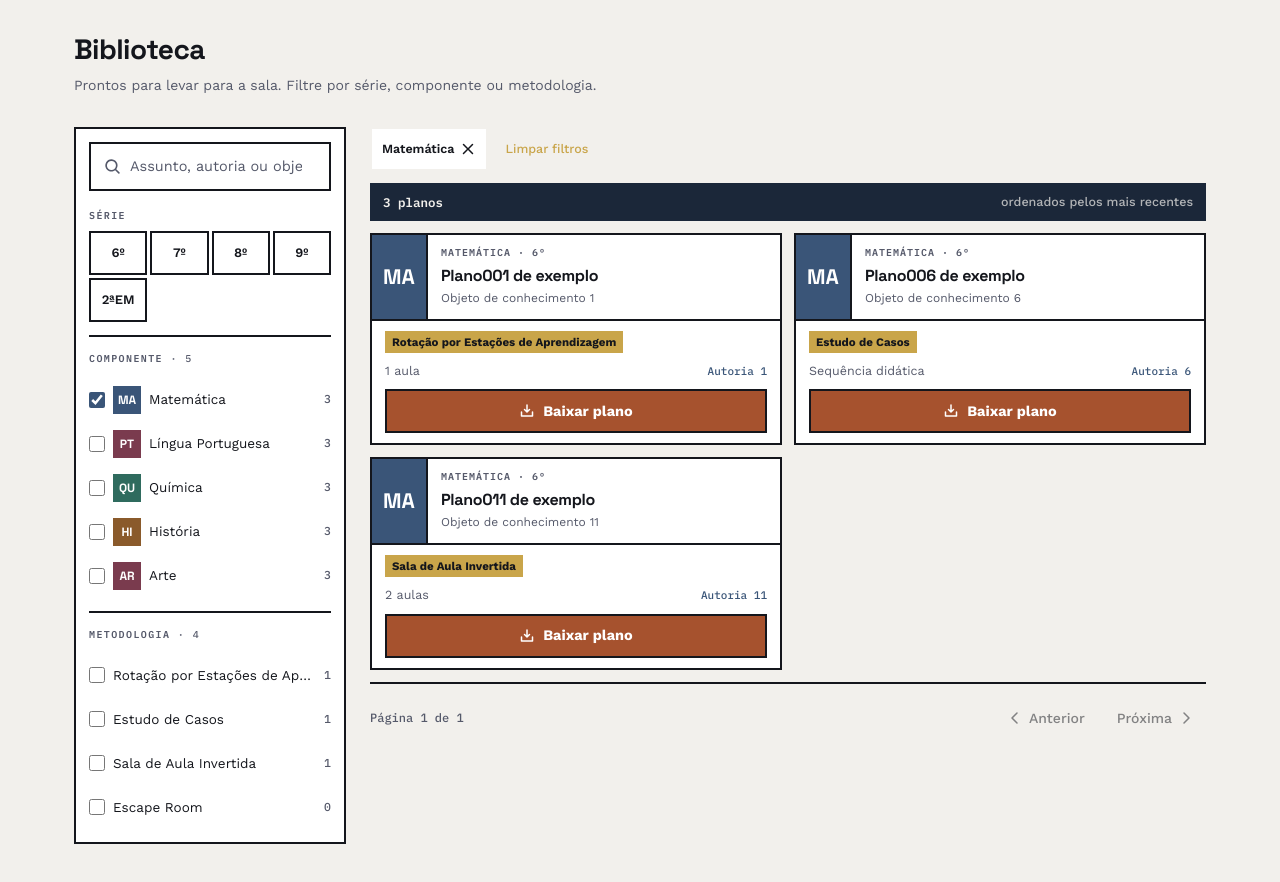
Test: PaginaBiblioteca › tocar no chip já ativo desliga o recorte
Expected: the text "3 planos" is shown, [383, 193, 443, 211]
Click the checkbox labelled "MA Matemática 3" at (97, 400), box [89, 392, 105, 408]
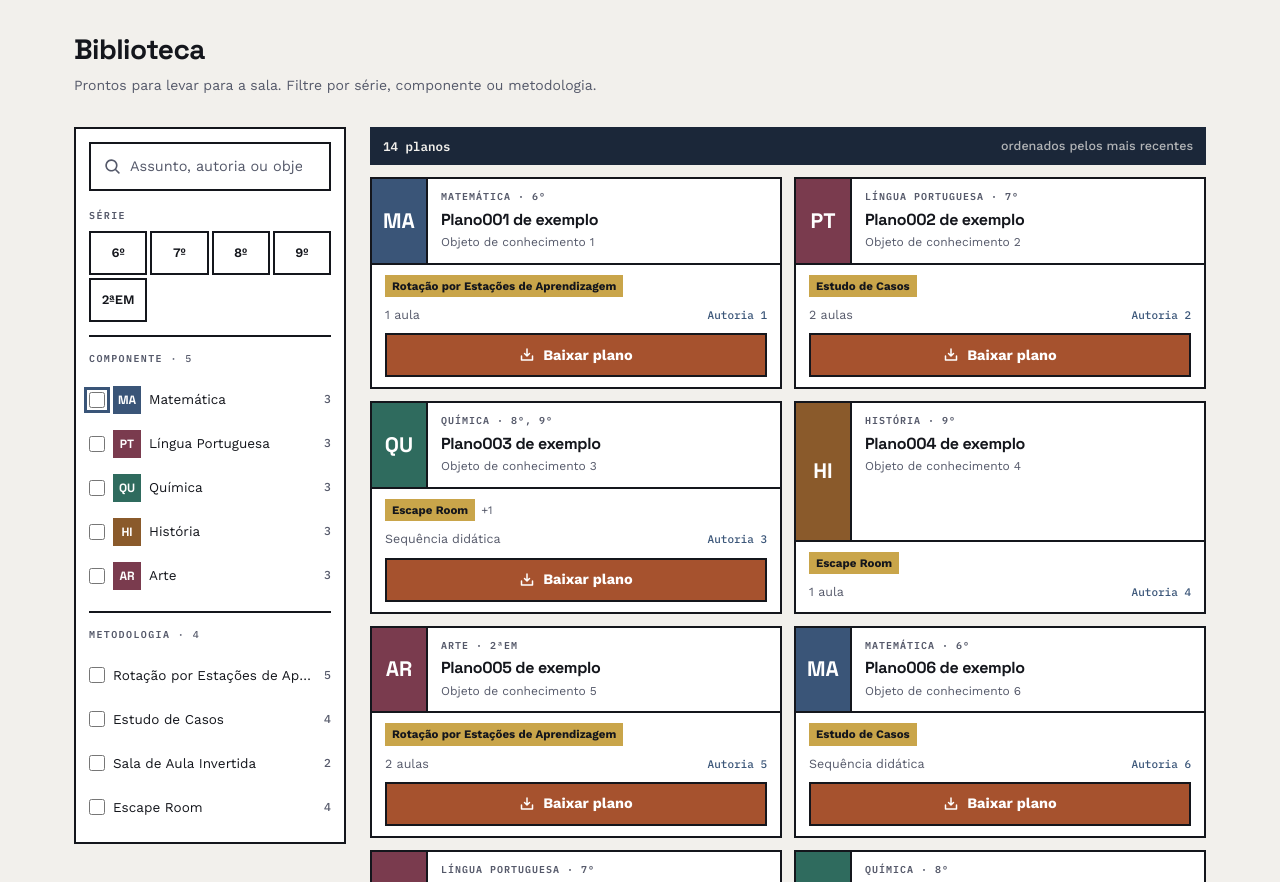
Now the text "14 planos" is shown, box [383, 137, 450, 155]
